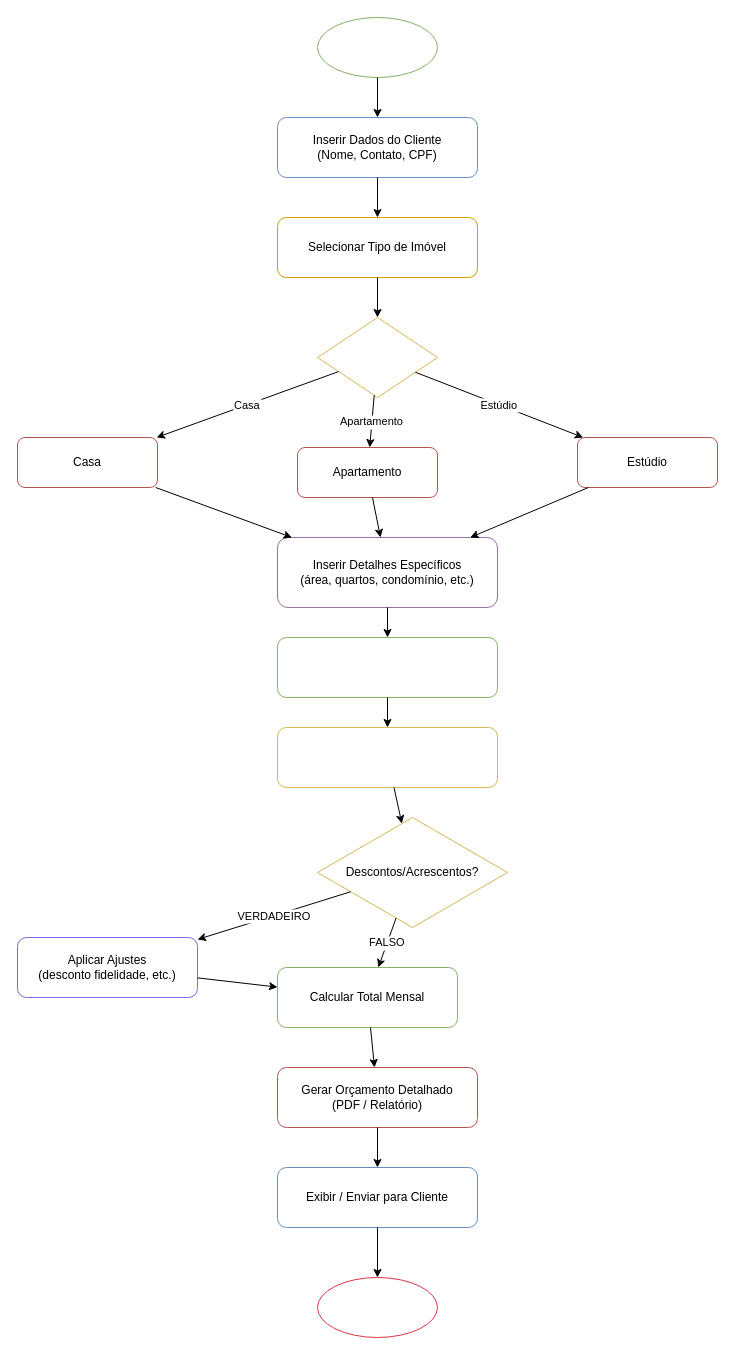
Some shapes in this 735 by 1355 pixel diagram are drawn without their labels. The box of each missing label's shape, as (x1, y1, x2, y2) in pixels:
Adicionar Custos Adicionais (condomínio, IPTU, taxas): (276, 726, 498, 788)
Calcular Aluguel Base (valorImóvel × 0,5% + ajustes): (276, 636, 498, 698)
Fim: (316, 1276, 438, 1338)
Início: (316, 16, 438, 78)
Tipo?: (316, 316, 438, 398)
